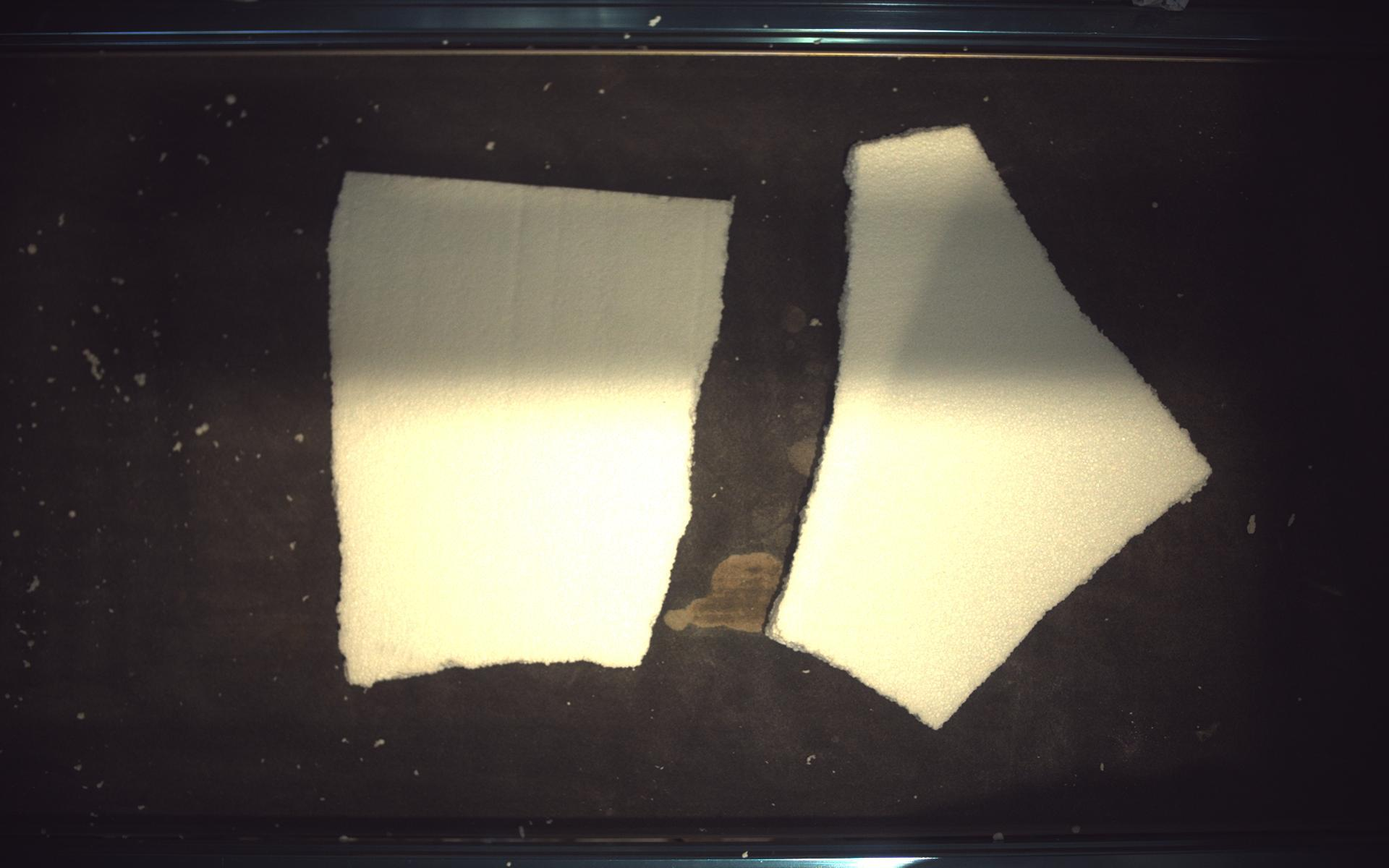foam: (771, 125, 1213, 729), (329, 171, 733, 687)
